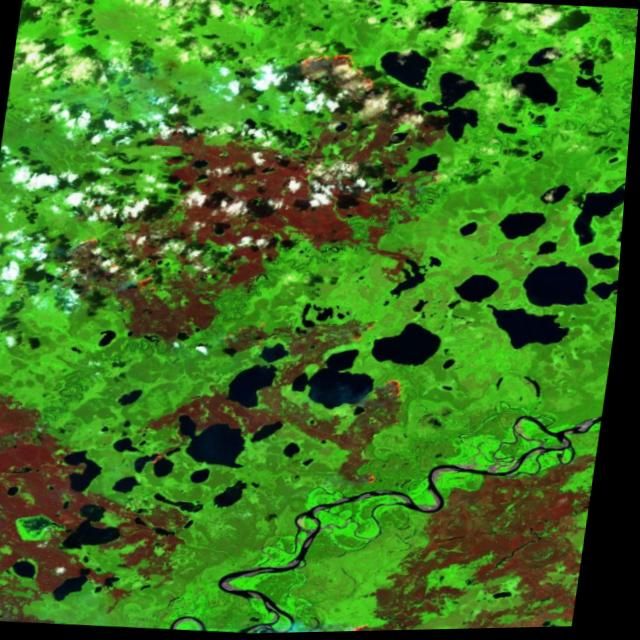fire: (285, 44, 392, 102), (122, 266, 174, 308), (372, 369, 424, 411), (341, 611, 397, 633), (356, 464, 396, 491)
